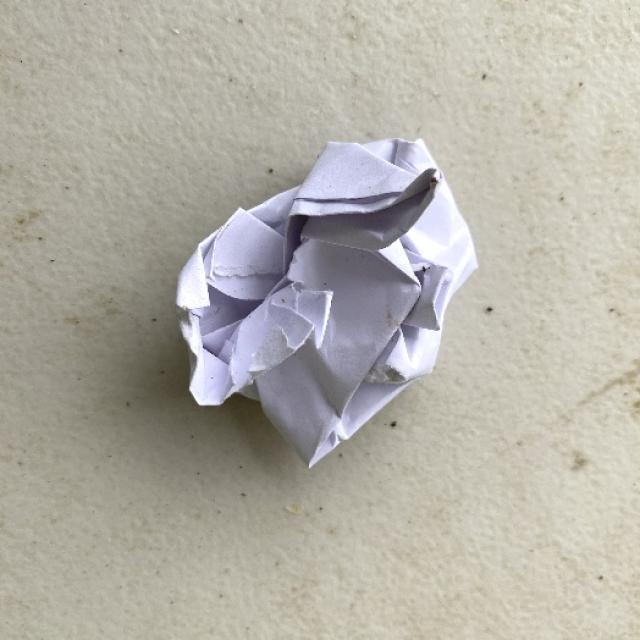inorganic: (166, 132, 481, 477)
